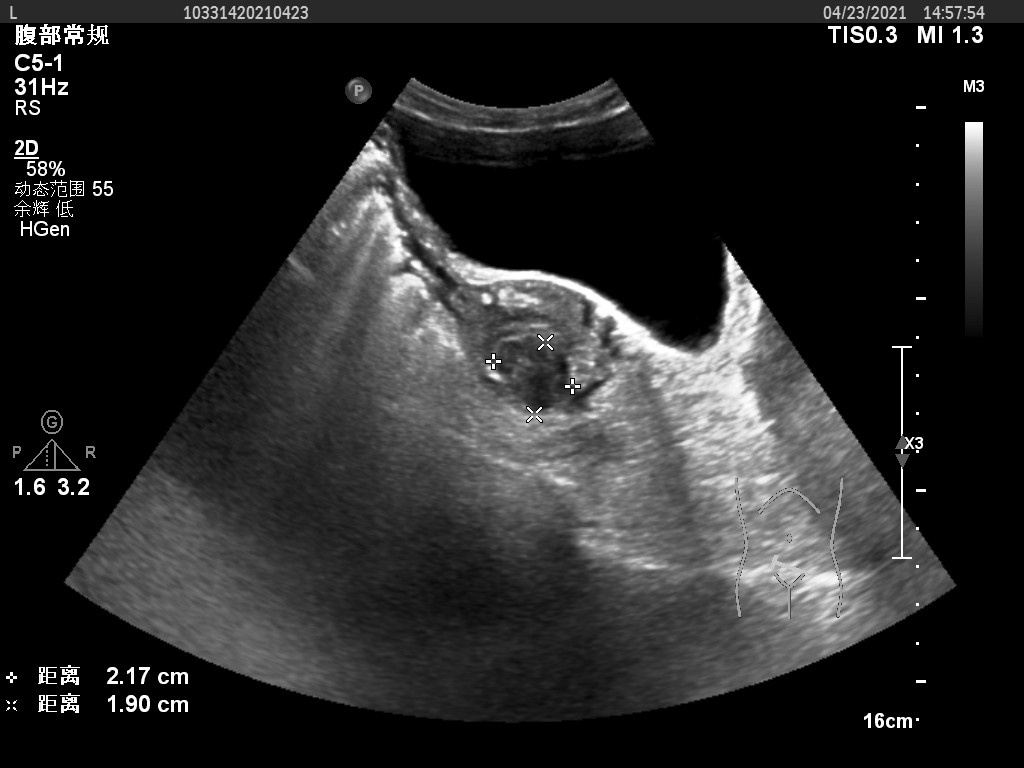肌瘤: (492, 342, 574, 413)
